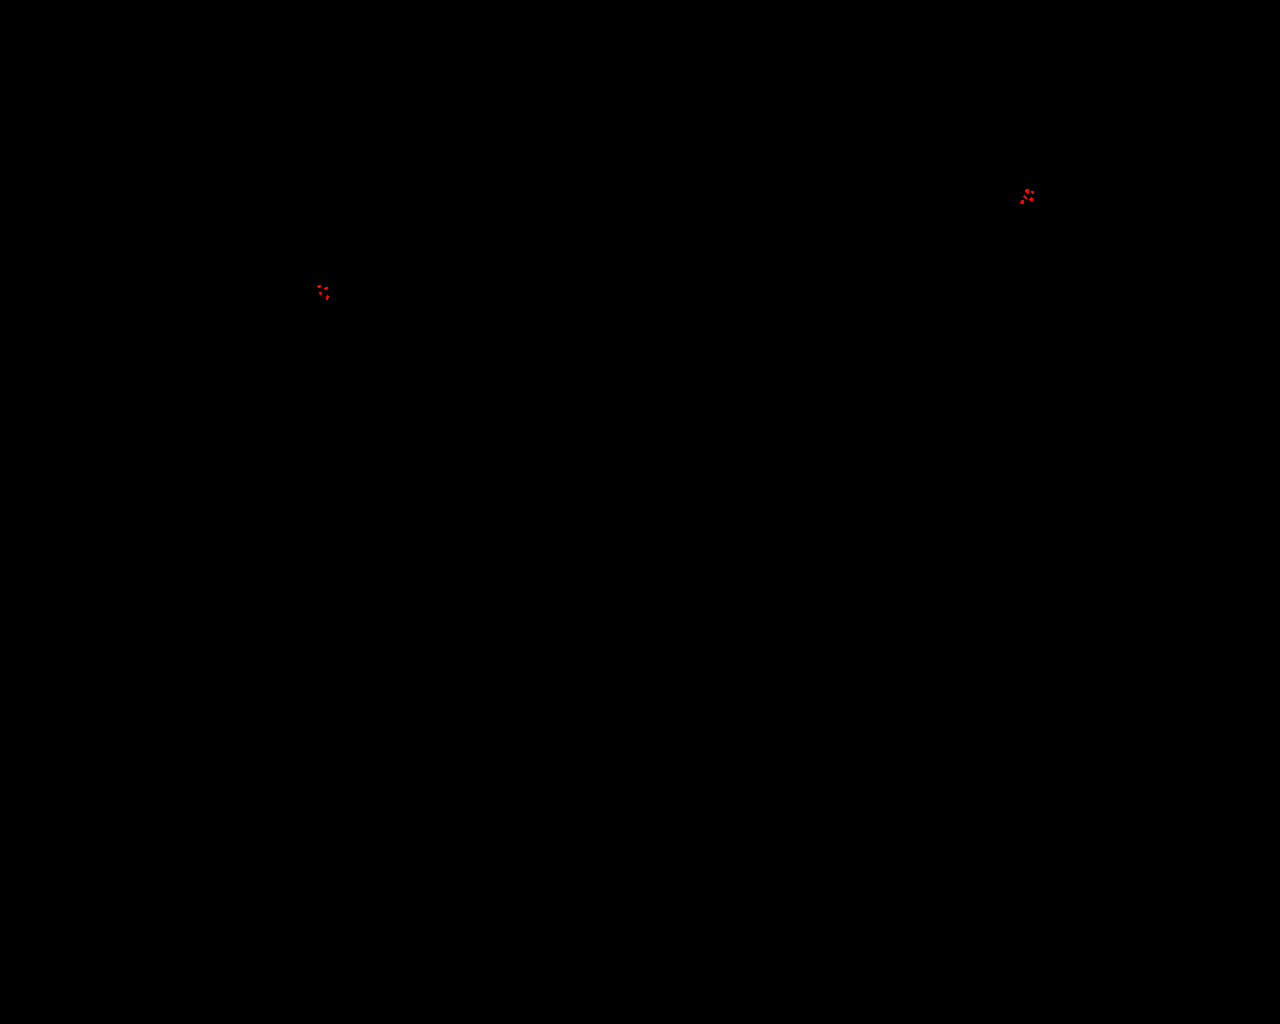Target: (1025, 189, 1029, 194), (1020, 200, 1024, 204), (326, 295, 329, 300), (1023, 195, 1027, 199), (1029, 197, 1033, 201), (317, 285, 321, 288), (324, 287, 328, 290), (1031, 191, 1034, 194), (319, 292, 322, 295)
